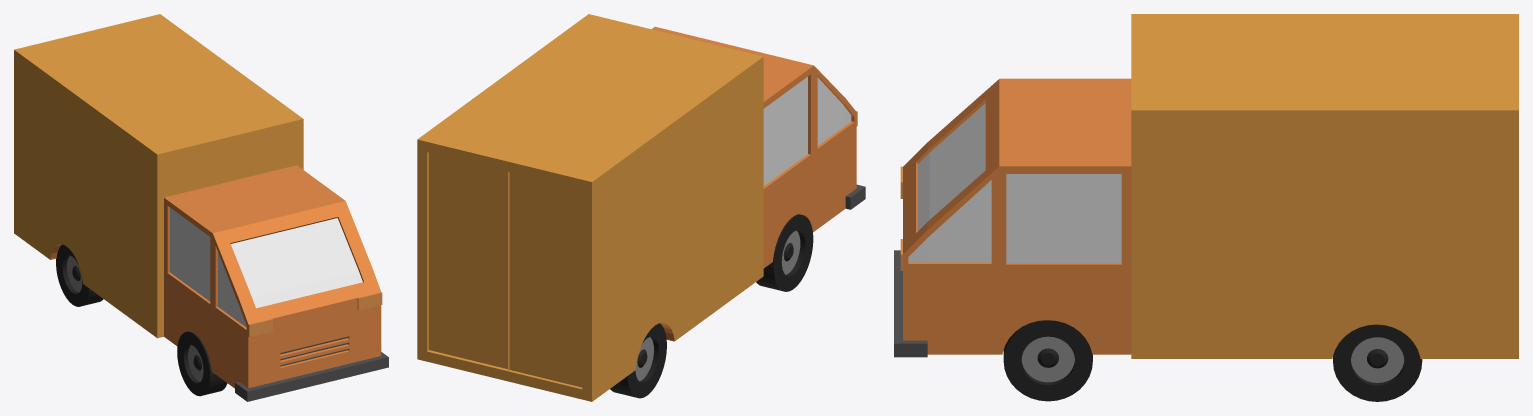
Rendered from delivery-truck-2-with-moving-animation.fbx.
The picture shows the model from 3 angles, left to right: view 1: azimuth 30°, elevation 25°; view 2: azimuth 150°, elevation 25°; view 3: azimuth 270°, elevation 25°; orthographic projection. The views are drawn at different scales.
Visible parts, largest first — view 1: Cube, Cylinder.002, Cylinder.003; view 2: Cube, Cylinder.002, Cylinder.003; view 3: Cube, Cylinder.004, Cylinder.001.
Boxes of the visible parts, box(x1,y1,x2,y2) form: Cube: box(14, 14, 388, 401); Cylinder.002: box(177, 331, 227, 396); Cylinder.003: box(56, 244, 103, 306); Cube: box(417, 14, 865, 401); Cylinder.002: box(756, 214, 813, 291); Cylinder.003: box(610, 323, 666, 398); Cube: box(894, 14, 1518, 358); Cylinder.004: box(1003, 320, 1092, 401); Cylinder.001: box(1333, 324, 1422, 401).
Size of the model in its own units: 678 by 967 by 1857.
